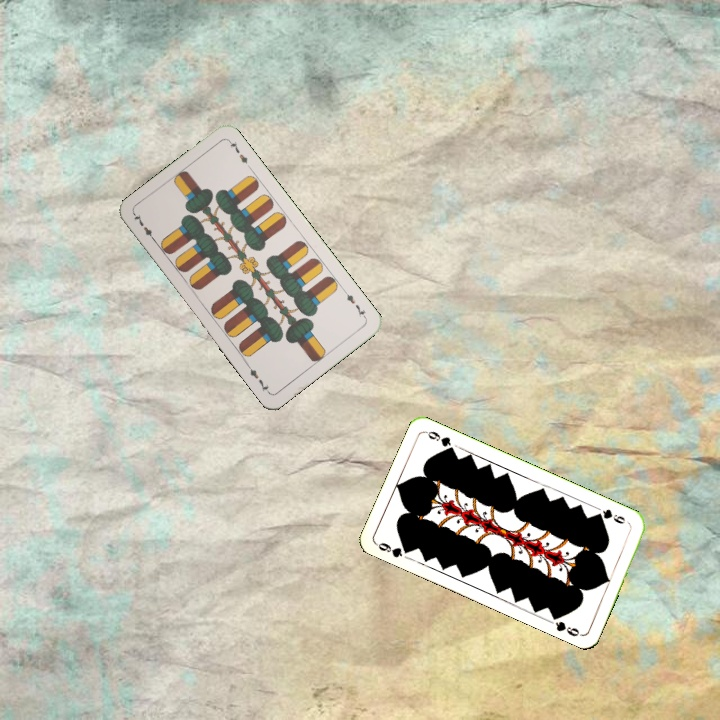E7: (340, 286, 369, 321), (130, 210, 159, 245)
G9: (372, 538, 414, 560), (592, 505, 628, 527)
